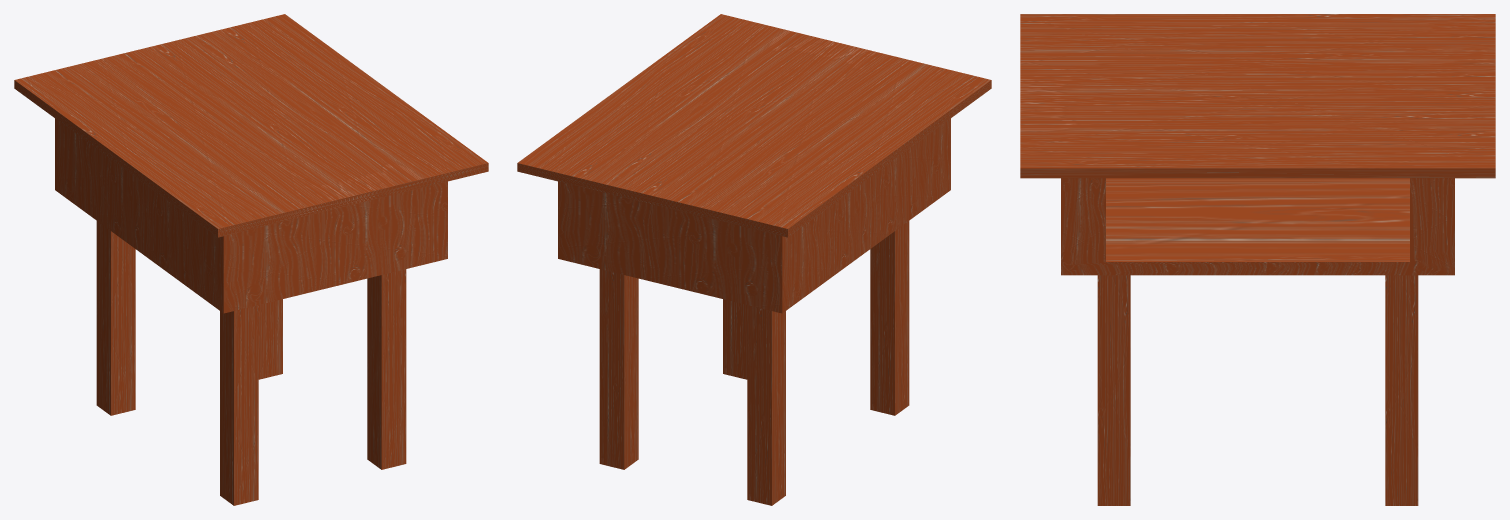
The model's file is gaveta2.fbx.
3 renders of one model, left to right at view 1: azimuth 30°, elevation 25°; view 2: azimuth 150°, elevation 25°; view 3: azimuth 270°, elevation 25°, orthographic. The views are drawn at different scales.
Visible parts, largest first — view 1: Cube; view 2: Cube; view 3: Cube.
Part boxes in pixels (x1,y1,x2,y2): Cube: [14, 14, 488, 505]; Cube: [517, 14, 991, 505]; Cube: [1020, 14, 1495, 505].
Size of the model in its own units: 66 by 73 by 86.
1 material, 1 textured.
